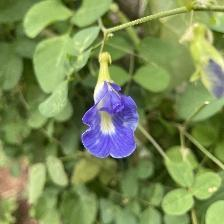shankupushpam: (79, 77, 144, 162)
